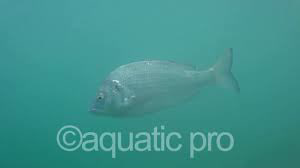kurodai: (89, 50, 239, 113)
